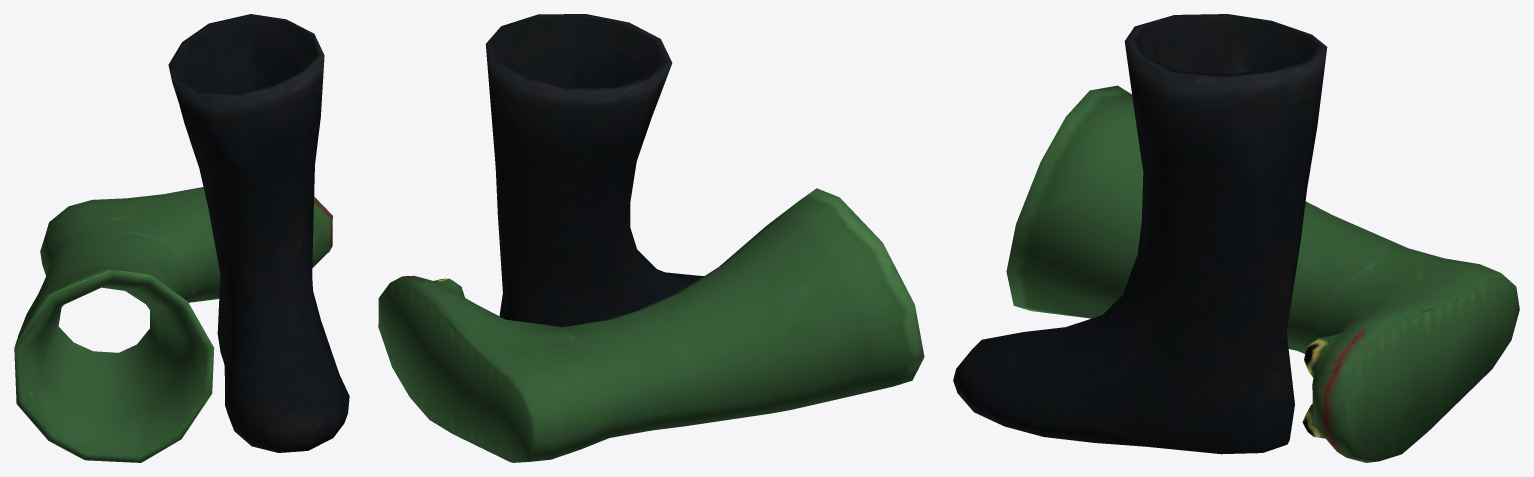
Rendered from frogboots_worldmodel.glb.
The picture shows the model from 3 angles, left to right: view 1: azimuth 30°, elevation 25°; view 2: azimuth 150°, elevation 25°; view 3: azimuth 270°, elevation 25°; orthographic projection. The views are drawn at different scales.
Visible parts, largest first — view 1: player_hazmat_boots_LOD0; view 2: player_hazmat_boots_LOD0; view 3: player_hazmat_boots_LOD0.
Boxes of the visible parts, <box> form: player_hazmat_boots_LOD0: <box>14,14,349,462</box>; player_hazmat_boots_LOD0: <box>378,14,924,462</box>; player_hazmat_boots_LOD0: <box>953,14,1519,462</box>.
Size of the model in its own units: 0.454 by 0.3322 by 0.4435.
1 material, 1 textured.
